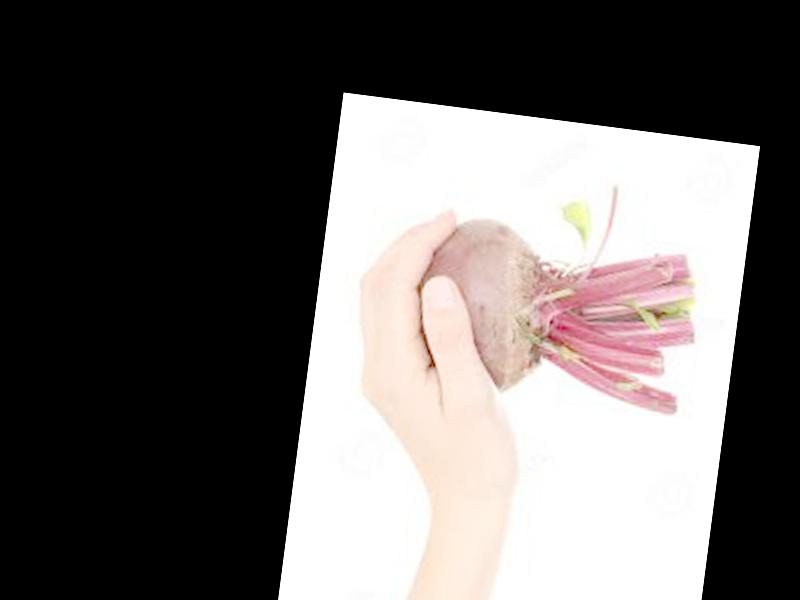Beet: (405, 160, 712, 415)
